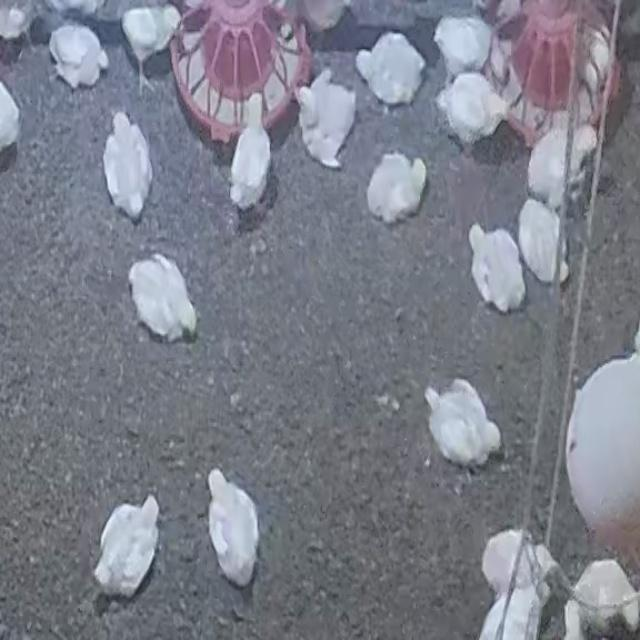chicken: (425, 378, 501, 468), (93, 495, 159, 596), (205, 471, 258, 587), (128, 254, 196, 342), (293, 69, 352, 168), (566, 562, 640, 640), (228, 87, 272, 215), (102, 110, 153, 218), (525, 125, 593, 205), (467, 223, 527, 311), (120, 4, 180, 92), (435, 71, 505, 146), (356, 32, 426, 106), (365, 149, 427, 224), (477, 531, 549, 595), (517, 198, 569, 285), (47, 23, 109, 91), (475, 585, 551, 640), (431, 16, 491, 79), (583, 12, 615, 92)
